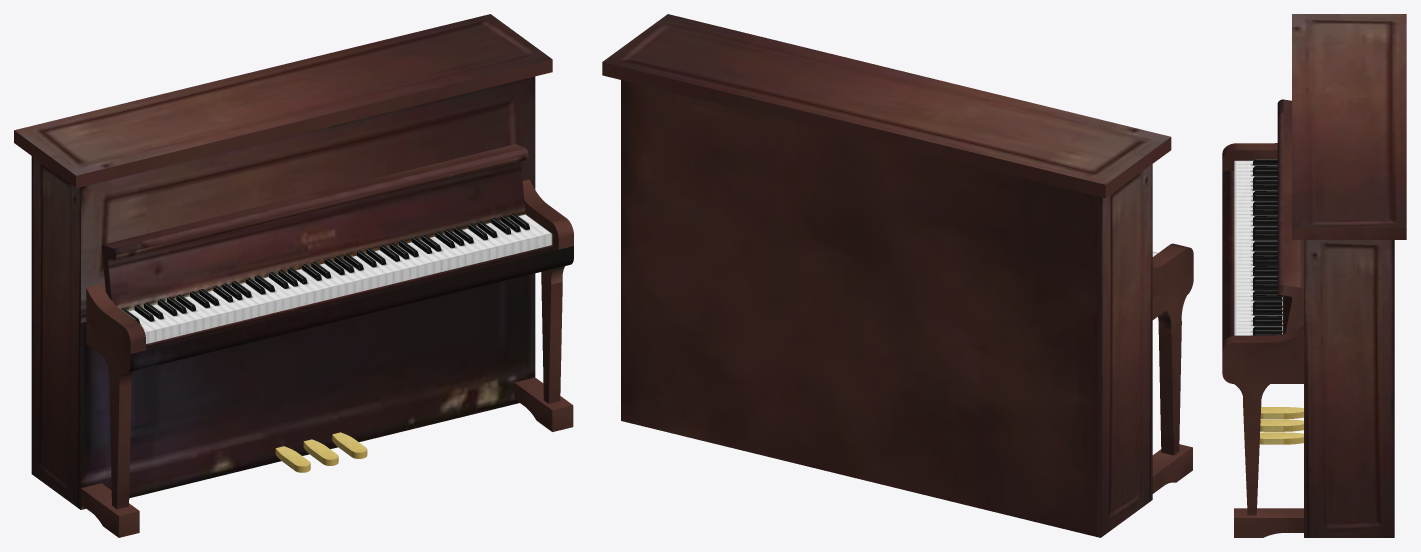
File: piano-upright-dark.glb
3 views of the same model, side by side, from view 1: azimuth 30°, elevation 25°; view 2: azimuth 150°, elevation 25°; view 3: azimuth 270°, elevation 25° (orthographic). The views are drawn at different scales.
Visible parts, largest first — view 1: Object_3; view 2: Object_3; view 3: Object_3.
Part boxes in pixels (<box>): Object_3: <box>14,14,573,537</box>; Object_3: <box>602,14,1193,537</box>; Object_3: <box>1222,14,1406,537</box>.
Bounding box in the file's own units: 1.82 × 1.25 × 0.6626.
3 materials, 1 textured.
